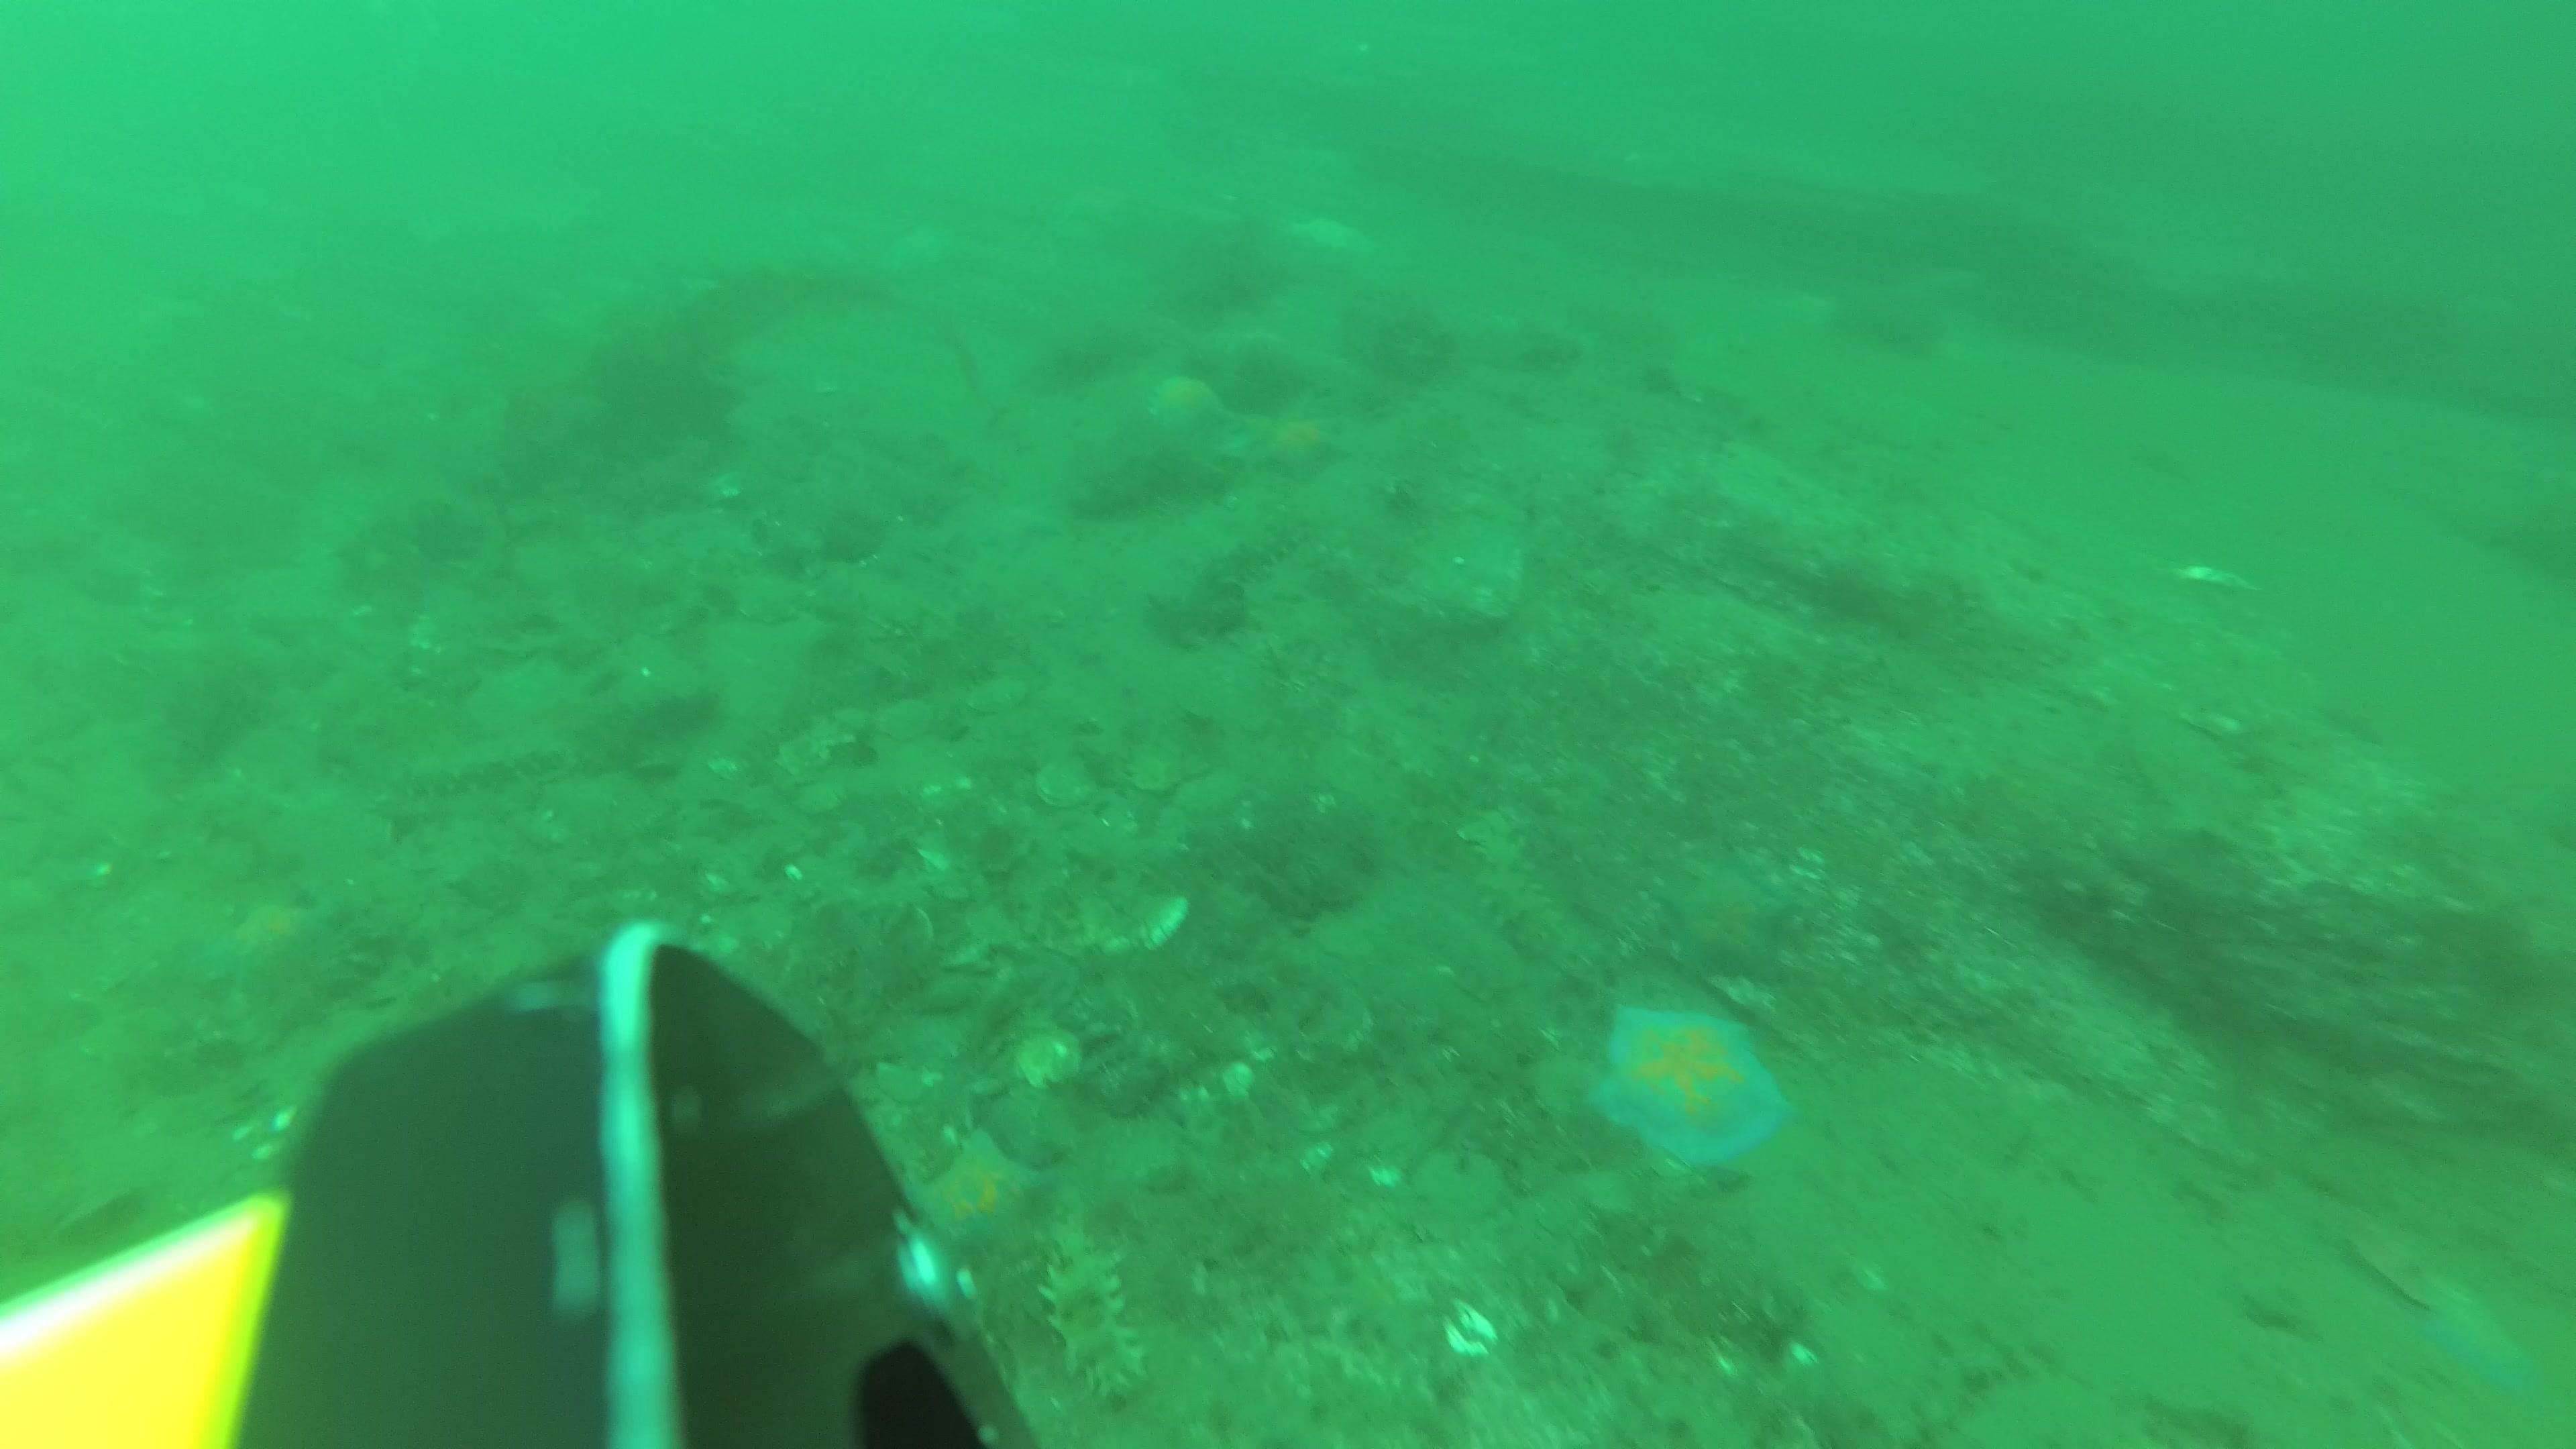holothurian: (1472, 823, 1601, 980), (1035, 1224, 1146, 1401), (387, 732, 571, 791), (1208, 515, 1309, 589)
scallop: (1035, 755, 1102, 809), (874, 697, 936, 743), (964, 676, 1030, 715)
starfish: (1591, 1007, 1794, 1180), (909, 1125, 1044, 1260), (1663, 865, 1798, 985), (205, 904, 341, 1021), (1146, 372, 1230, 441), (1261, 416, 1350, 478)
